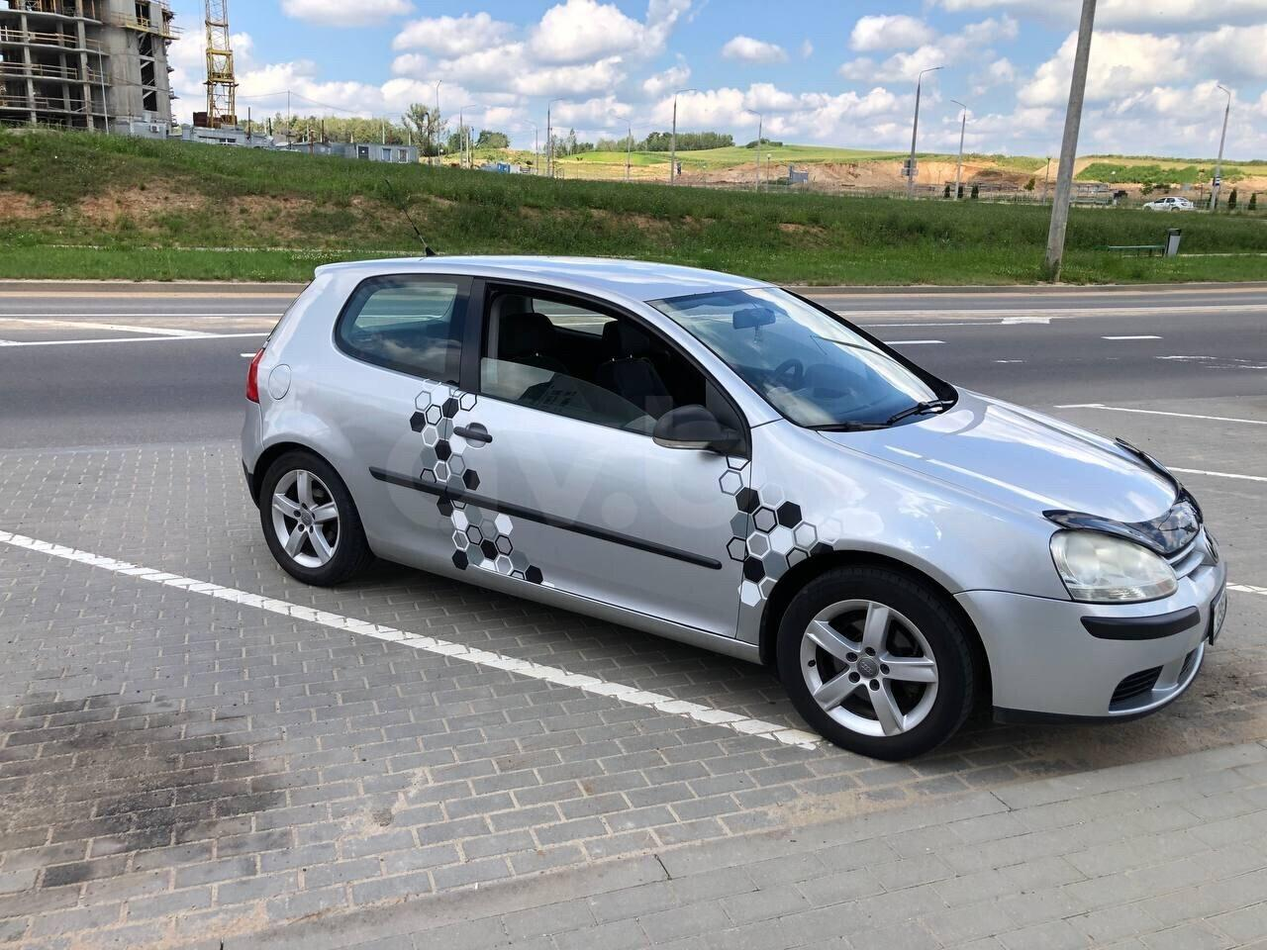Golf_2003-2009: (241, 251, 1233, 755)
